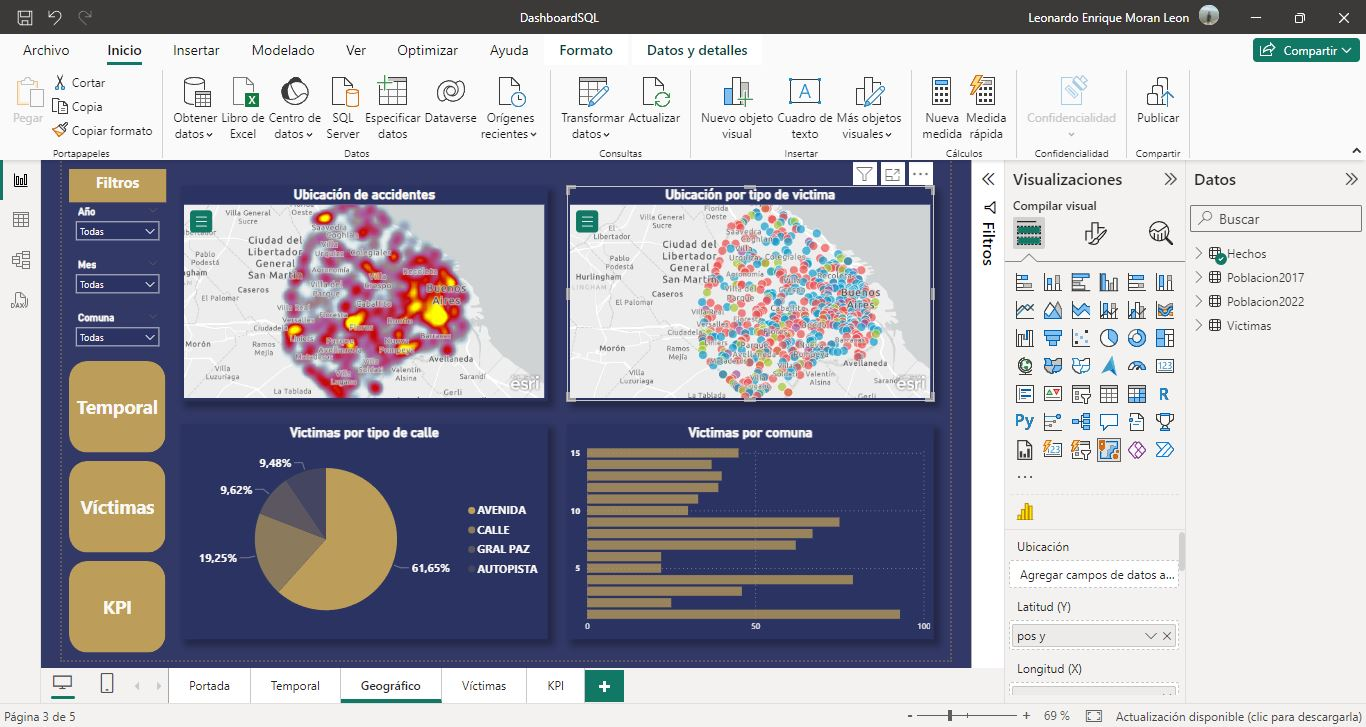

This screenshot's page, from the dashboard's own definition file:
{"tool":"powerbi","page":{"name":"Geográfico","canvas":[1280,720],"ordinal":2},"visuals":[{"type":"slicer","fields":{"Values":["Hechos.FECHA.Variación.Jerarquía de fechas.Año"]},"box":[10.1,60.5,139.7,76.3],"z":0},{"type":"slicer","fields":{"Values":["Hechos.FECHA.Variación.Jerarquía de fechas.Mes"]},"box":[10.1,136.8,139.7,76.3],"z":1000},{"type":"textbox","box":[10.1,13,139.7,47.5],"z":2000},{"type":"esriVisual","title":"Ubicación de accidentes","fields":{"Latitude":["Hechos.pos y"],"Longitude":["Hechos.pos x"],"Size":["Sum(Hechos.N_VICTIMAS)"]},"box":[171.4,37.4,528.5,309.6],"z":3000},{"type":"pieChart","title":"Victimas por tipo de calle","fields":{"Category":["Hechos.TIPO_DE_CALLE"],"Y":["Sum(Hechos.N_VICTIMAS)"]},"box":[171.4,380.2,528.5,309.6],"z":4000},{"type":"pageNavigator","box":[10.1,289.4,139.7,420.5],"z":5000},{"type":"clusteredBarChart","title":"Victimas por comuna","fields":{"Category":["Hechos.COMUNA"],"Y":["Sum(Hechos.N_VICTIMAS)"]},"box":[727.2,380.2,528.5,309.6],"z":6000},{"type":"slicer","fields":{"Values":["Poblacion2022.COMUNA"]},"box":[10.1,213.1,139.7,76.3],"z":7000},{"type":"esriVisual","title":"Ubicación por tipo de victima","fields":{"Latitude":["Hechos.pos y"],"Longitude":["Hechos.pos x"],"Color":["Hechos.VICTIMA"]},"box":[727,37,528,310],"z":8000}]}

Visuals, with their boxes on the page's 1280x720 design canvas (x1, y1, x2, y2). These are canvas units, not pixel positions in the 1366x727 screenshot, which may show the page scaled, cropped or inside an application window:
slicer - Hechos.FECHA.Variación.Jerarquía de fechas.Año: crop(10, 60, 150, 137)
slicer - Hechos.FECHA.Variación.Jerarquía de fechas.Mes: crop(10, 137, 150, 213)
textbox: crop(10, 13, 150, 60)
"Ubicación de accidentes" esriVisual: crop(171, 37, 700, 347)
"Victimas por tipo de calle" pieChart: crop(171, 380, 700, 690)
pageNavigator: crop(10, 289, 150, 710)
"Victimas por comuna" clusteredBarChart: crop(727, 380, 1256, 690)
slicer - Poblacion2022.COMUNA: crop(10, 213, 150, 289)
"Ubicación por tipo de victima" esriVisual: crop(727, 37, 1255, 347)
